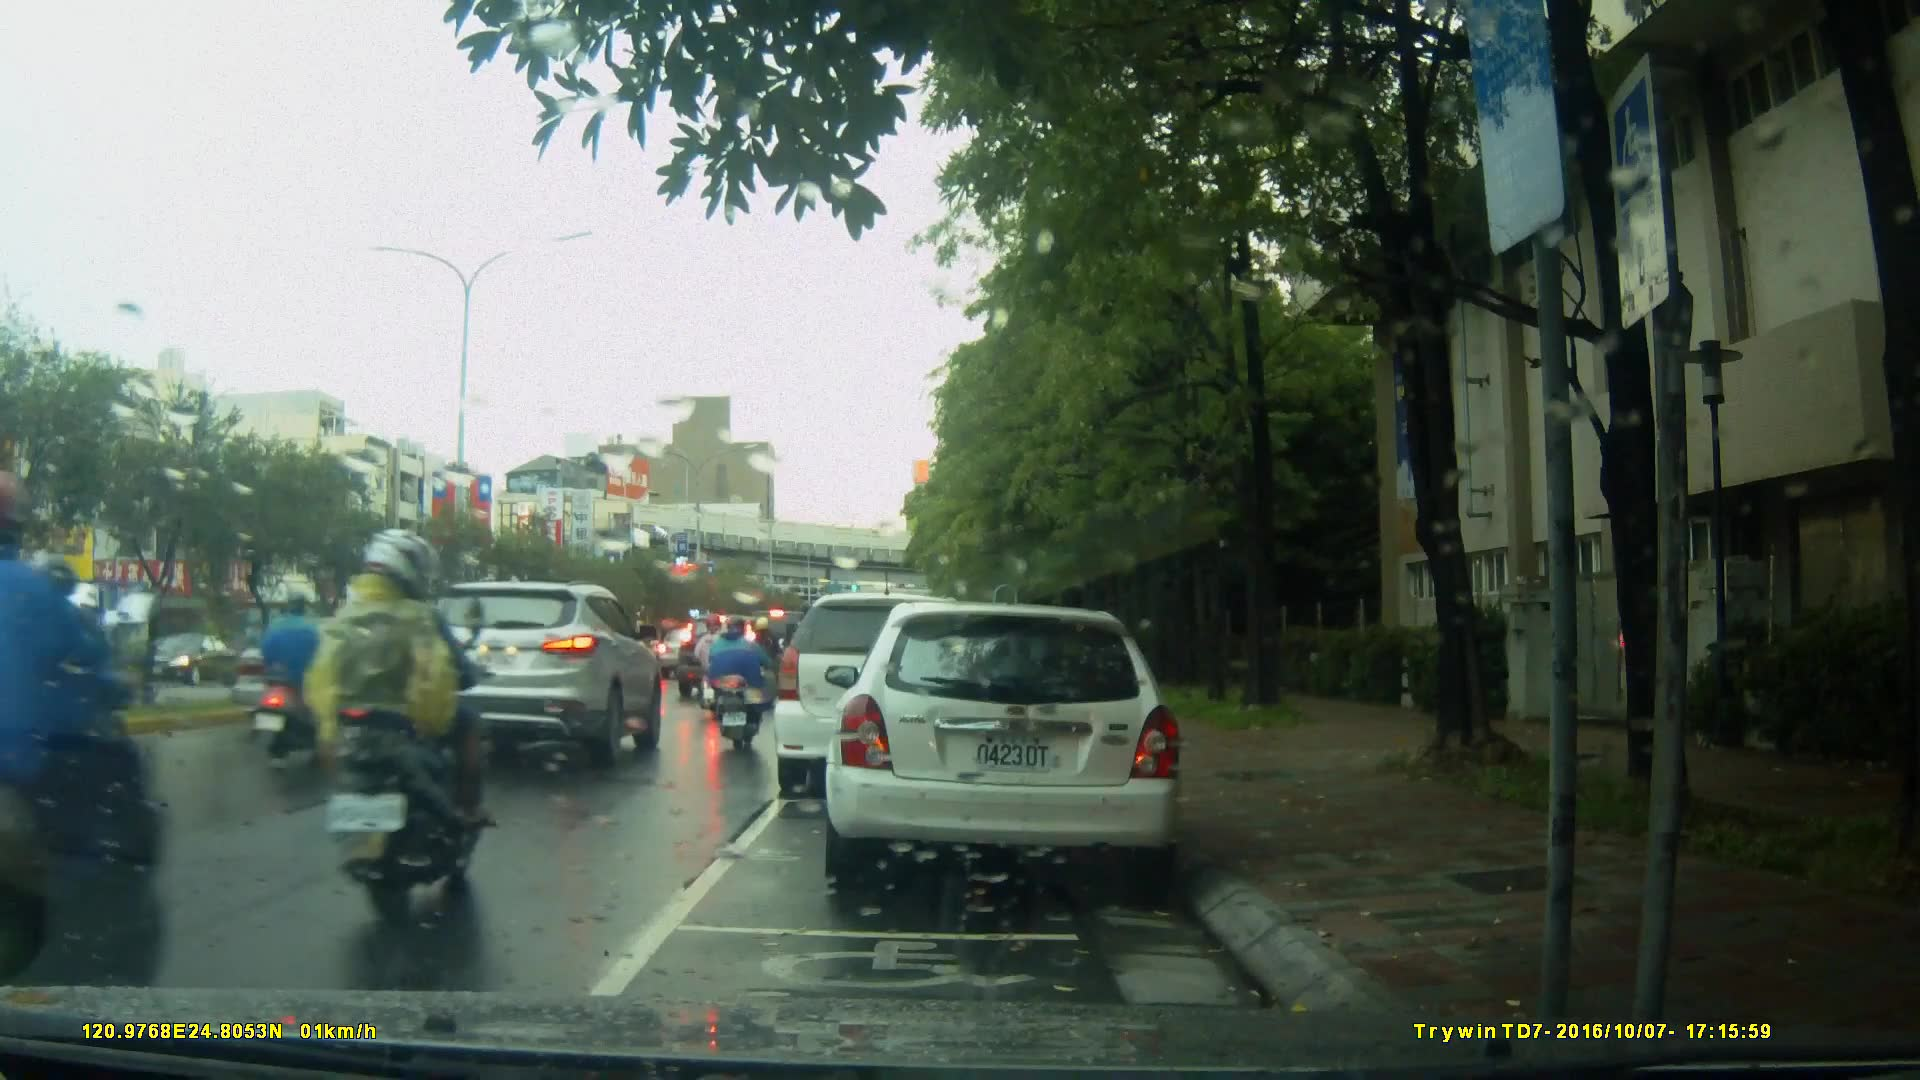rider: (1, 478, 173, 1037), (309, 530, 489, 912), (14, 589, 101, 807), (252, 579, 348, 770), (706, 613, 776, 752), (689, 609, 736, 729), (746, 618, 785, 703)
vehicle: (822, 604, 1188, 883), (377, 574, 668, 770), (774, 595, 995, 802), (20, 576, 168, 697), (675, 613, 763, 704), (144, 630, 241, 686)
